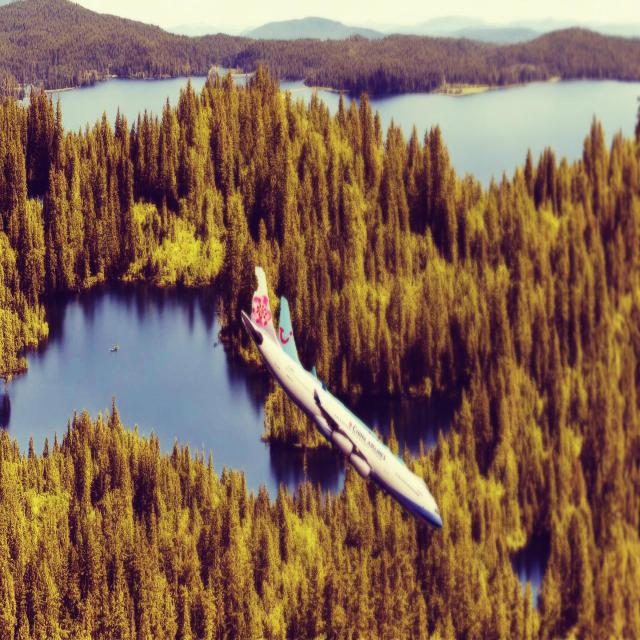airplane: (240, 265, 443, 530)
